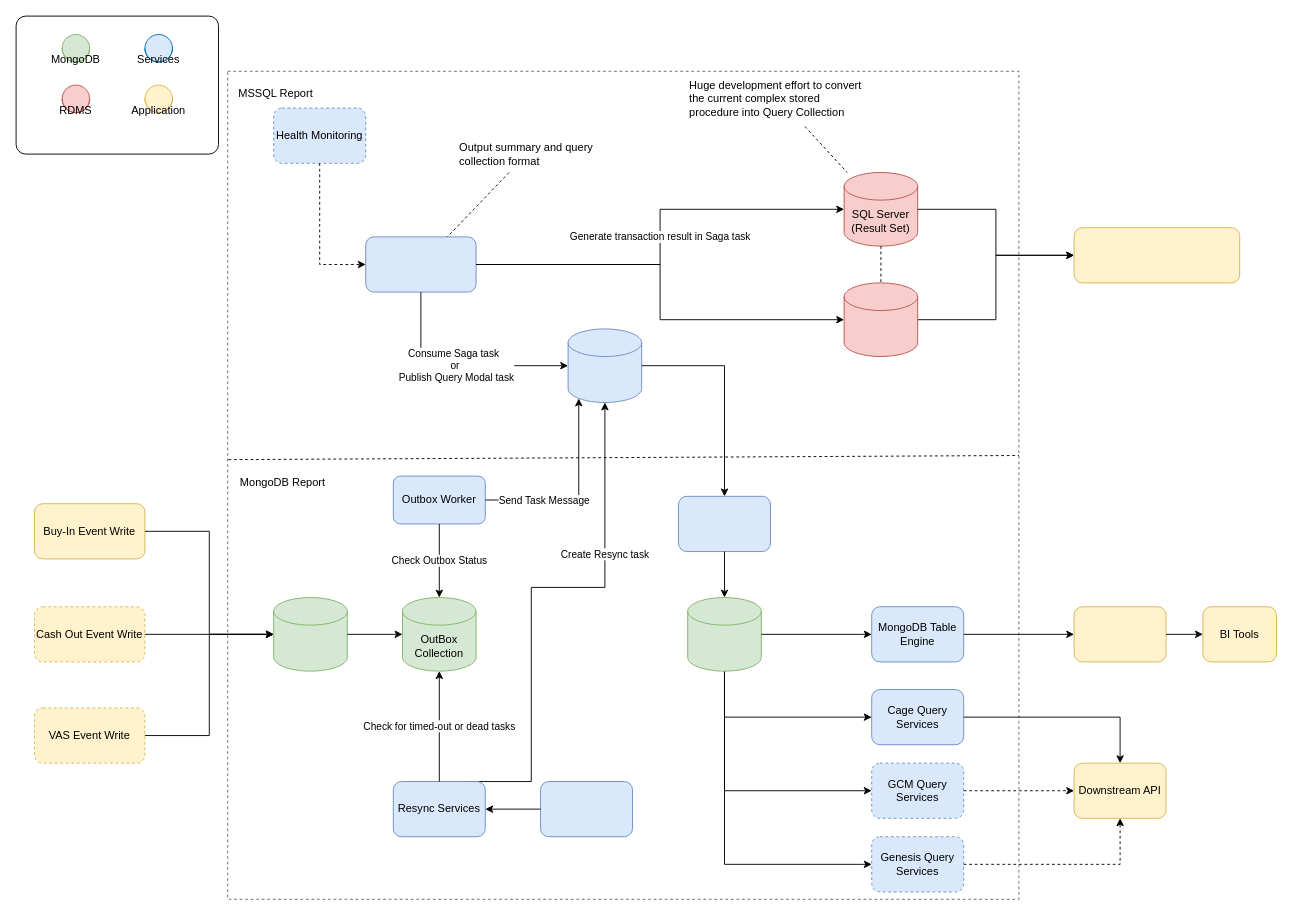
This 1293x915 diagram has some shape labels left out. The shapes that lost their labels are listed below. From the top down, each one's centre as x and y in pixels, then its label:
point 420,264: Dapr + SAGA pattern in C#
point 1156,255: Reporting/Data Warehouse (SSRS)
point 880,319: OceanBase (Result Set)
point 604,365: Rabbit MQ
point 724,523: Consumer Worker
point 310,634: Event Collection
point 724,634: Query Collection
point 1119,634: ClickHouse
point 586,809: Dapr Scheduled Task
